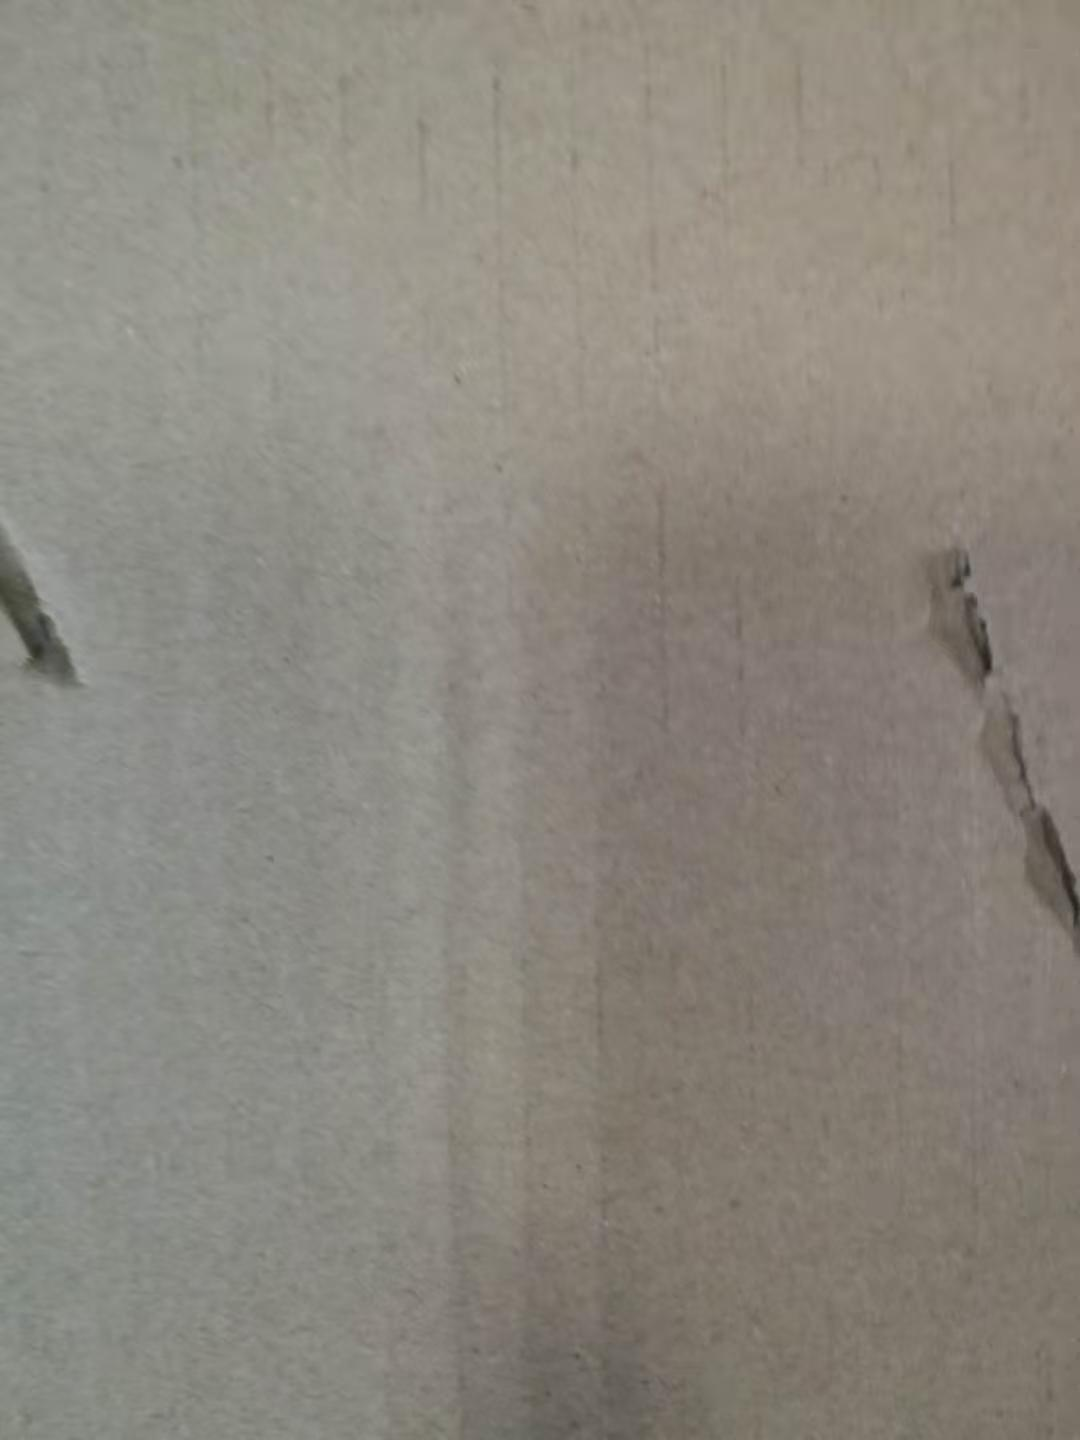defect: (872, 488, 1080, 990), (1, 495, 111, 725)
